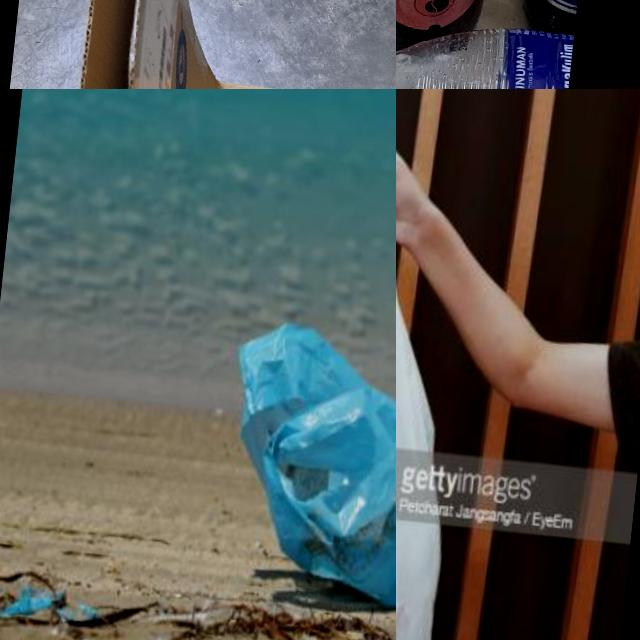garrafa de vidro: (396, 0, 529, 63)
garrafa plástica: (396, 5, 574, 89)
papelão: (0, 0, 369, 89)
sacola plástica: (396, 169, 533, 640), (210, 316, 396, 640)
